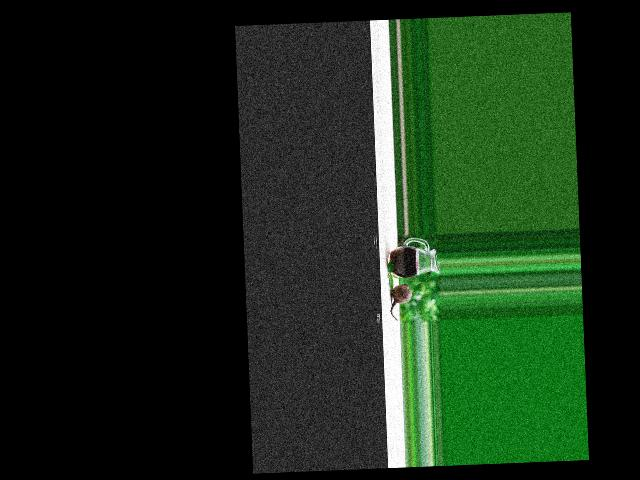beet: (389, 283, 412, 320)
